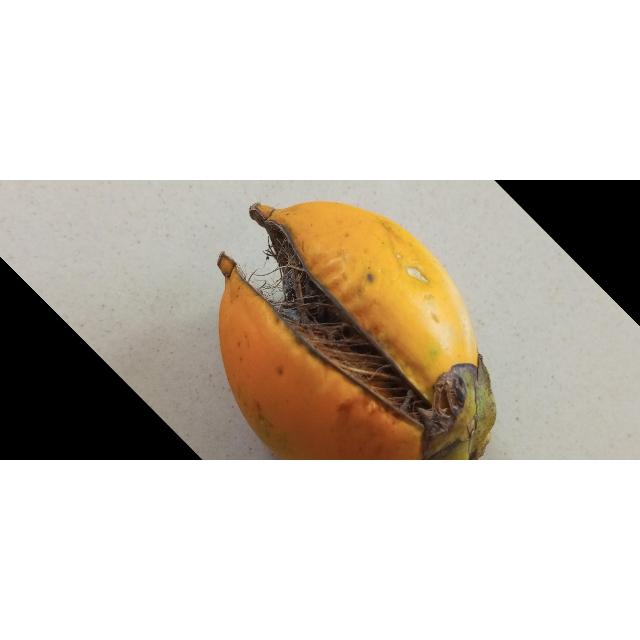damaged: (217, 202, 496, 461)
